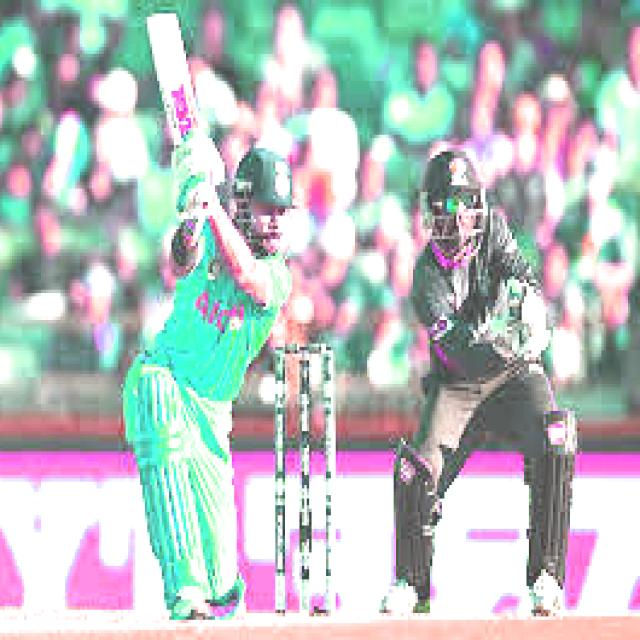toe: (137, 5, 192, 53)
